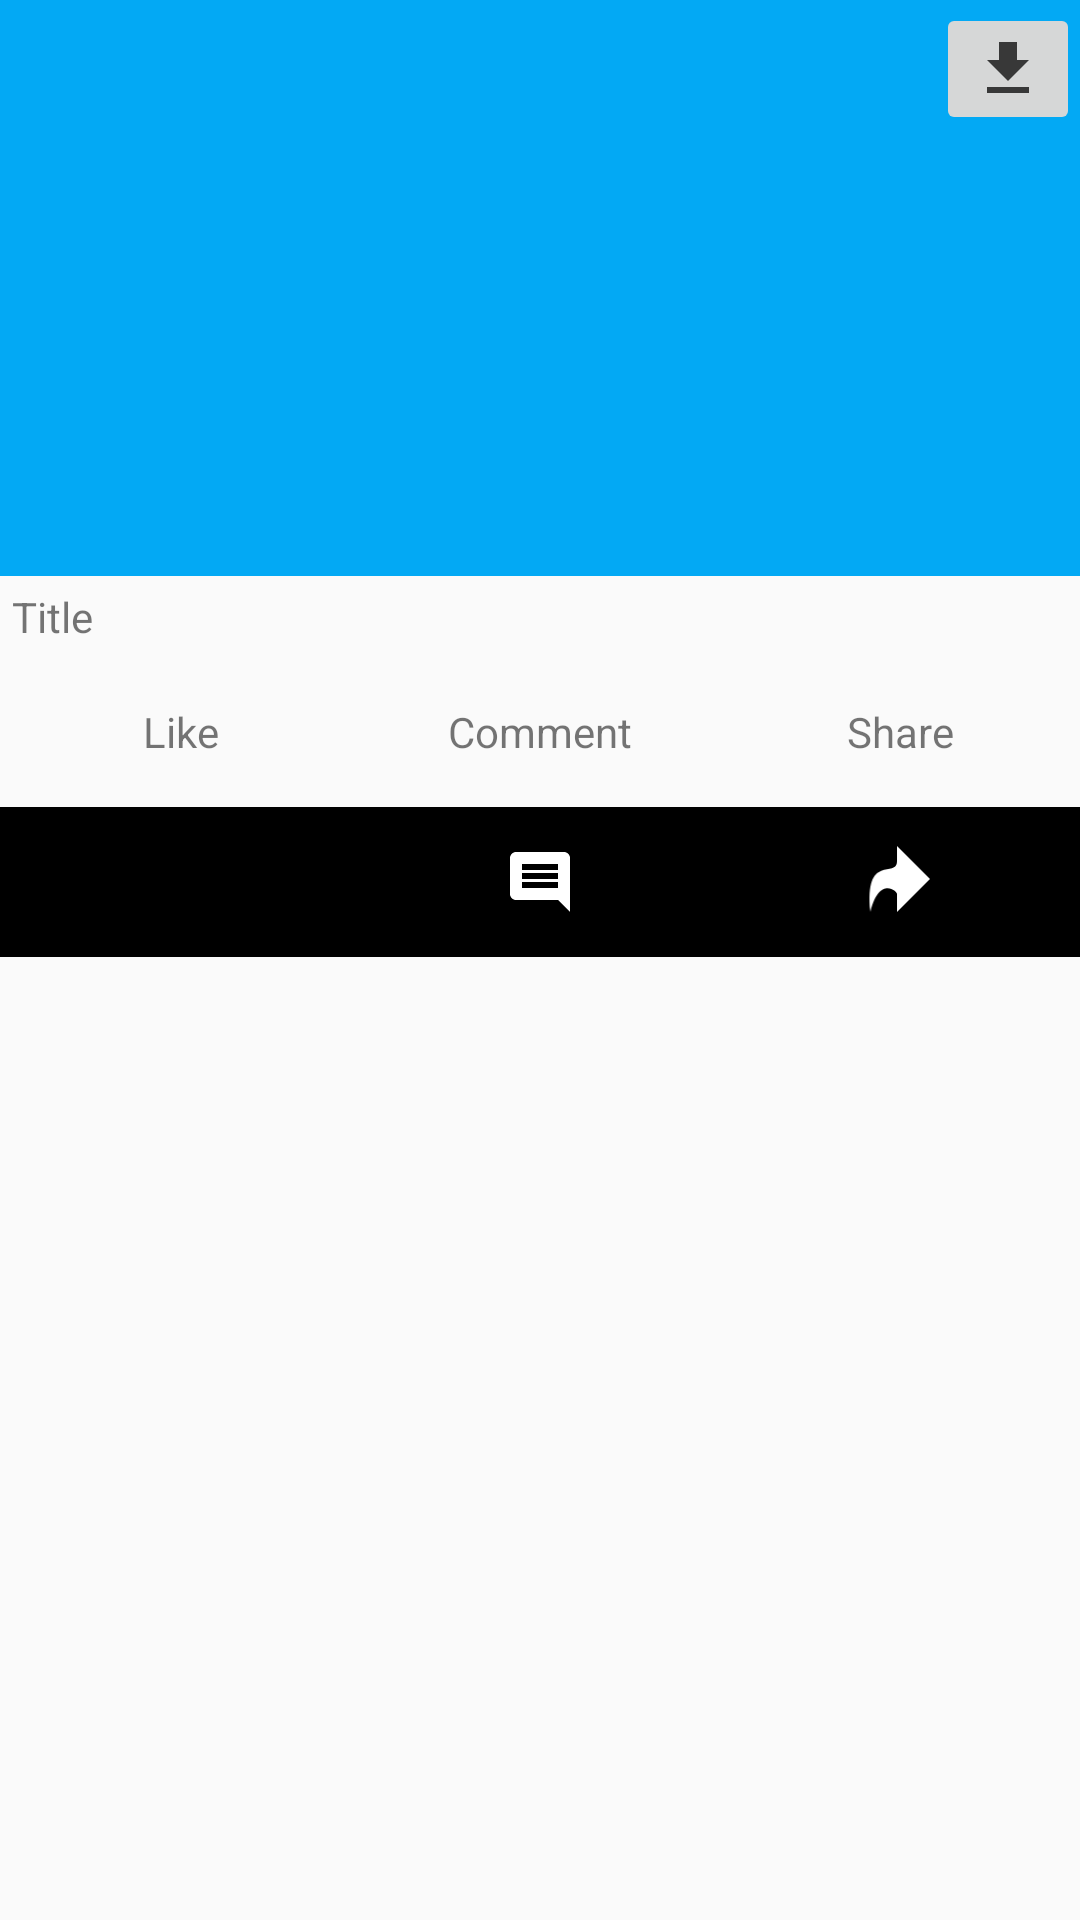

Locate icon controls on the screen. Image size 1080×1920, boxes as (x1, y1, x2, y2).
file download: (948, 21, 1068, 117)
